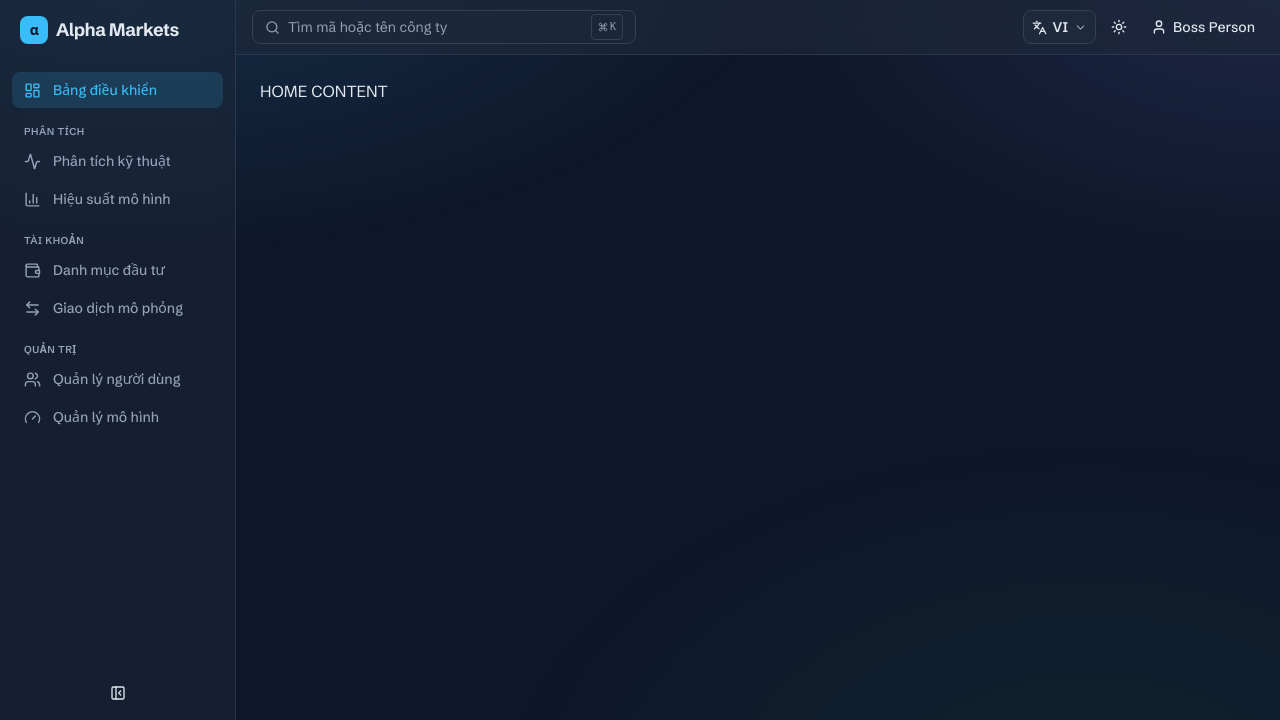
MainLayout: role-based display › menu texts are available in Vietnamese
Click the button with aria-label "Menu tài khoản".
click(1203, 27)  # box [1142,10,1264,44]
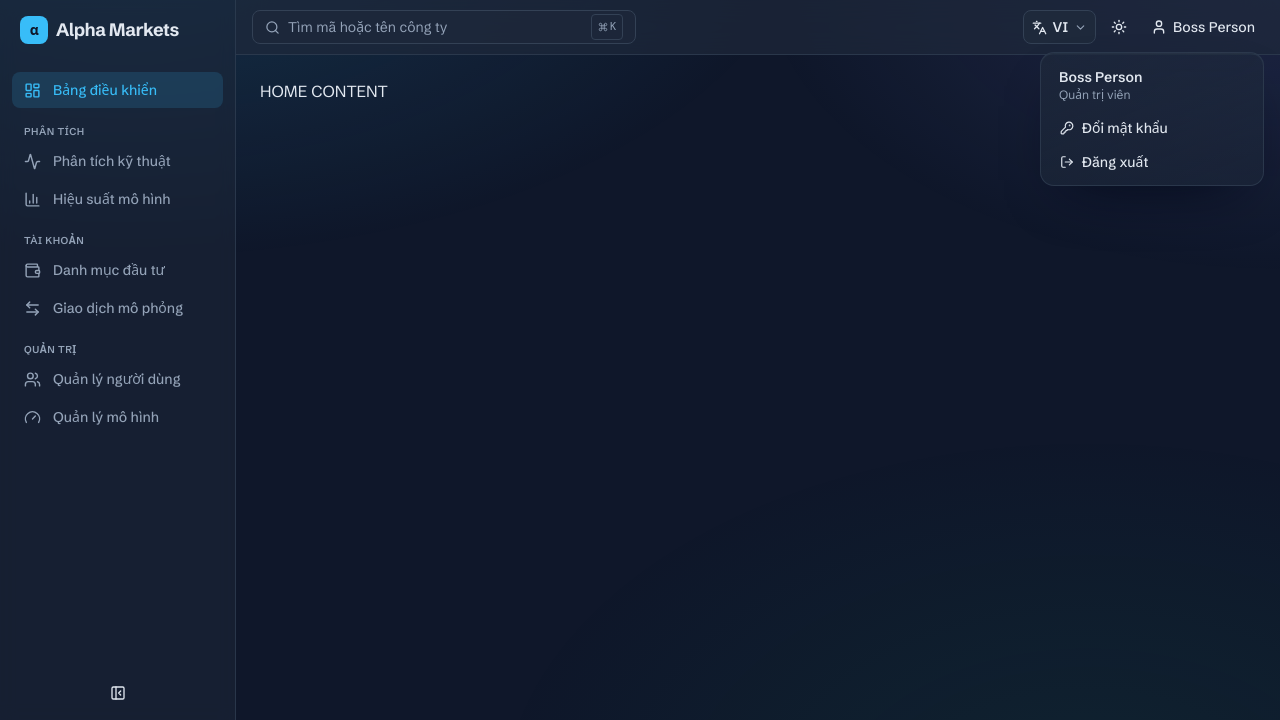
Expected: the link "Quản lý người dùng" is shown, [24,370,181,388]
Expected: the menu item "Đăng xuất" is shown, [1047,145,1257,179]
Expected: the menu item "Đổi mật khẩu" is shown, [1047,111,1257,145]
